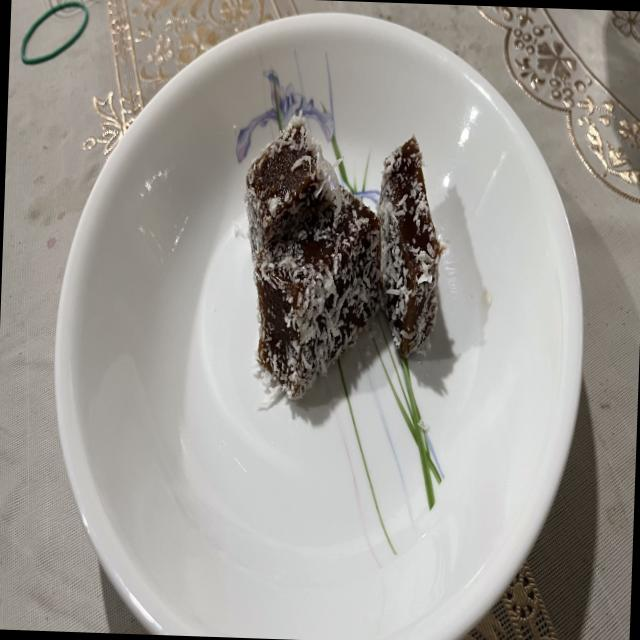kaswi: (253, 181, 382, 404), (377, 136, 444, 356), (245, 112, 334, 262)
